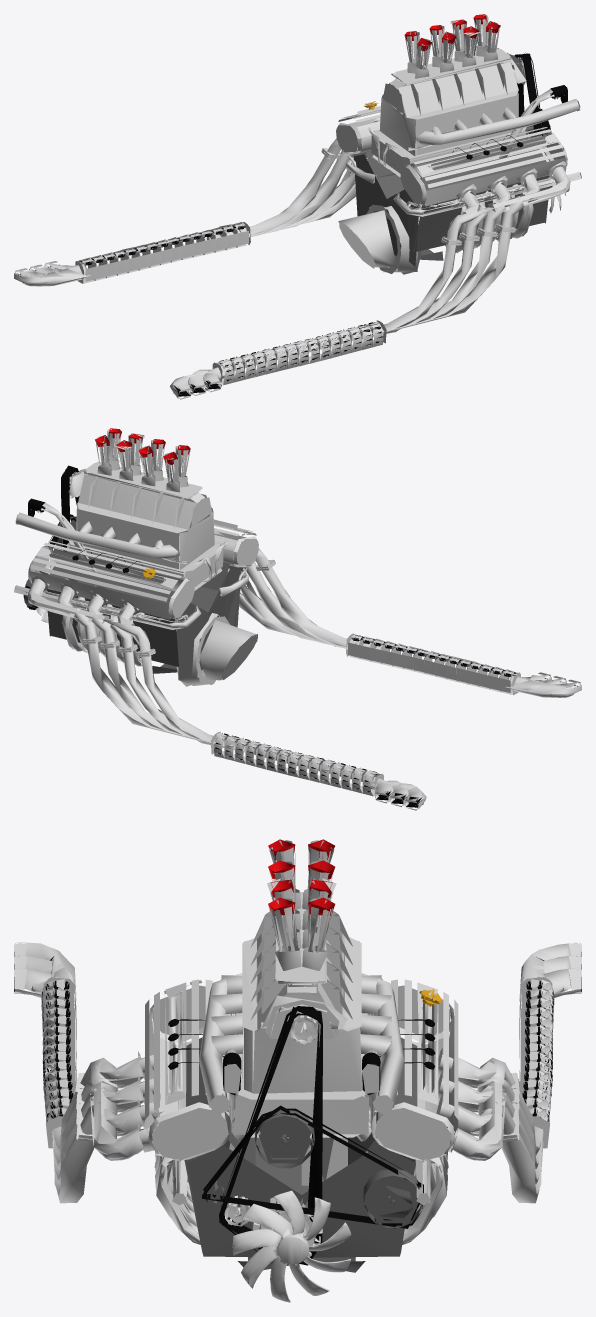
Rendered from eng-v8-57-sb.glb.
3 views of the same model, one above another, from view 1: azimuth 30°, elevation 25°; view 2: azimuth 150°, elevation 25°; view 3: azimuth 270°, elevation 25° (orthographic). The views are drawn at different scales.
Parts seen in each view (by area): view 1: p0; view 2: p0; view 3: p0.
Boxes of the visible parts, x1,y1,x2,y2 form: p0: (14,14,581,399); p0: (14,428,581,810); p0: (14,839,581,1302).
Size of the model in its own units: 1.45 by 0.6981 by 0.8993.
